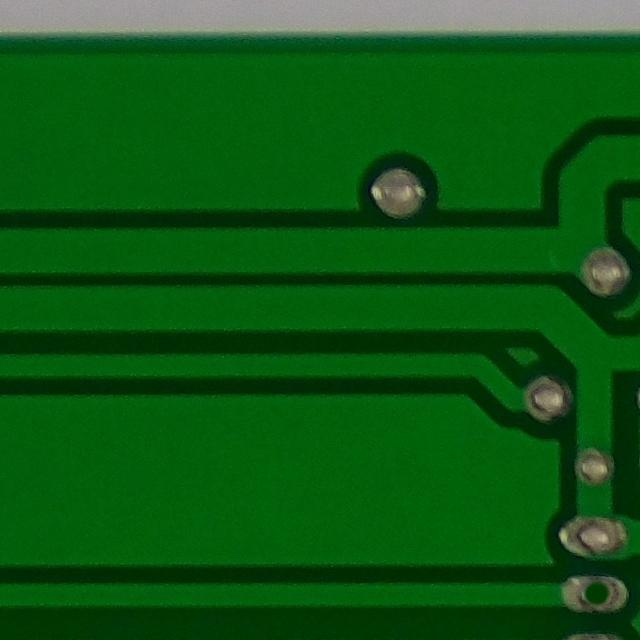missing_hole: (563, 567, 634, 623)
